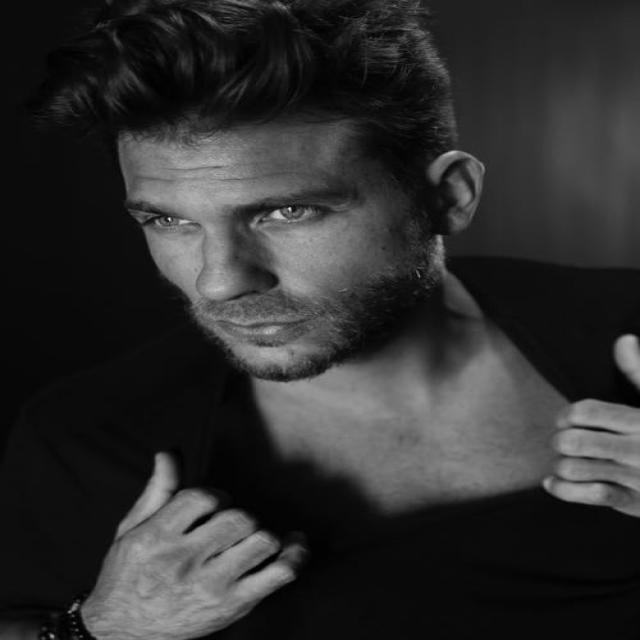Wrinkles: (222, 171, 283, 180), (163, 165, 226, 170), (135, 175, 174, 180)
